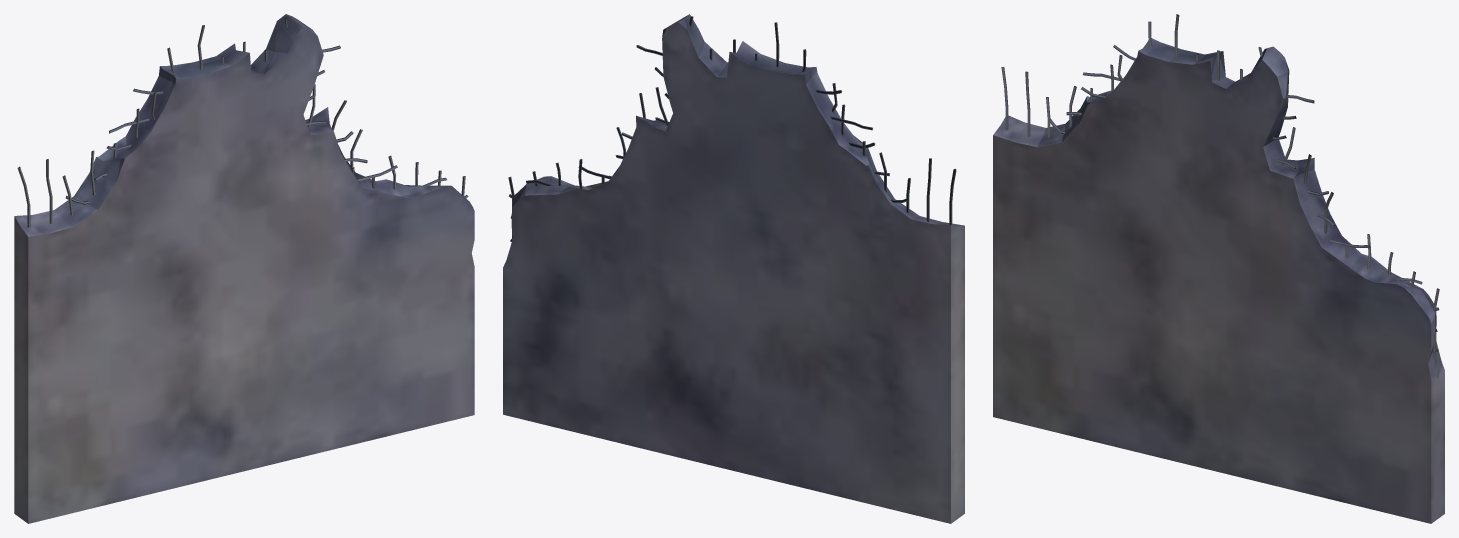
The model's file is broken-wall-slab.gltf.
3 views of the same model, side by side, from view 1: azimuth 30°, elevation 25°; view 2: azimuth 150°, elevation 25°; view 3: azimuth 330°, elevation 25° (orthographic). The views are drawn at different scales.
Visible parts, largest first — view 1: broken_concrete_wall_001.001; view 2: broken_concrete_wall_001.001; view 3: broken_concrete_wall_001.001.
Boxes of the visible parts, left/top/right/bottom form: broken_concrete_wall_001.001: left=14, top=14, right=474, bottom=523; broken_concrete_wall_001.001: left=503, top=14, right=964, bottom=523; broken_concrete_wall_001.001: left=993, top=14, right=1444, bottom=523.
Size of the model in its own units: 2.01 by 1.93 by 0.1089.
Materials: 1 (1 with a texture image).
